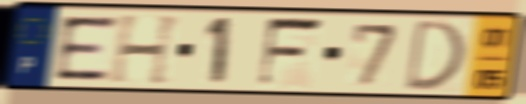1: (201, 14, 235, 88)
7: (349, 21, 400, 88)
D: (401, 17, 469, 94)
E: (53, 14, 121, 83)
F: (254, 15, 327, 91)
H: (107, 12, 186, 87)
